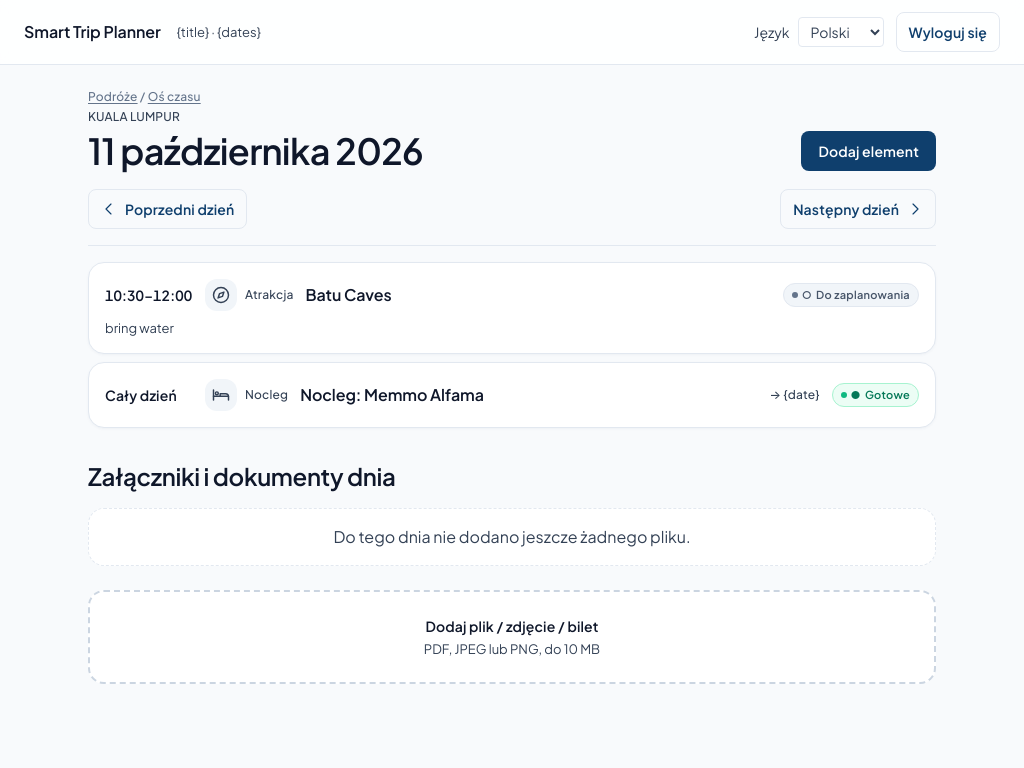
Test case: the item editor › keeps the primary action disabled until the item has a title
The image size is (1024, 768).
Expected: the text "Batu Caves" is shown, [306,284,392,305]
Click the button "Dodaj element" at {"x": 869, "y": 151}, box [801,131,936,171]
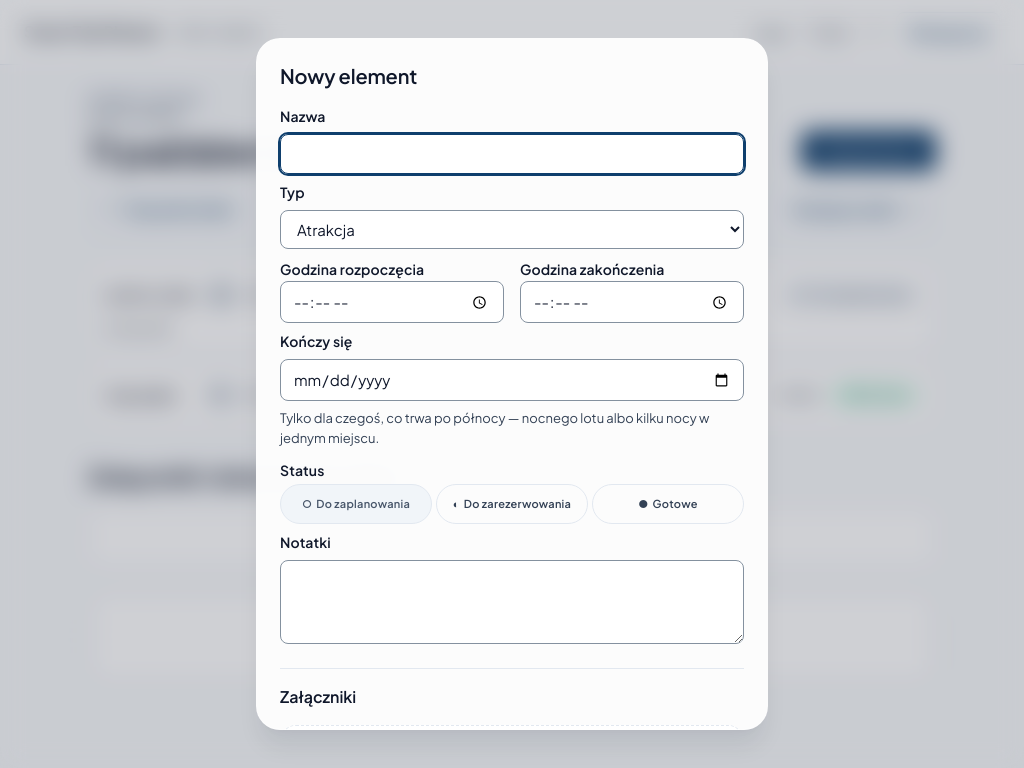
Type "Kolacja" into the field labelled "Nazwa" at {"x": 512, "y": 154}, box [280,134,744,174]
(page scrolled)
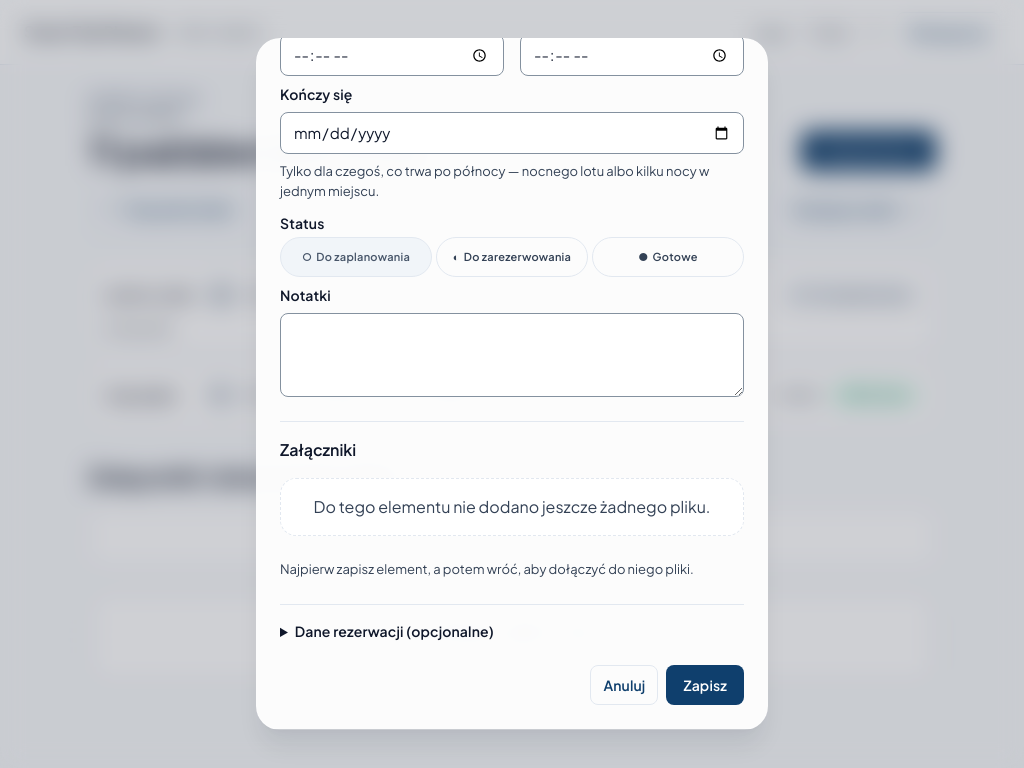
Expected: the button "Zapisz" is enabled, [666,665,744,705]
